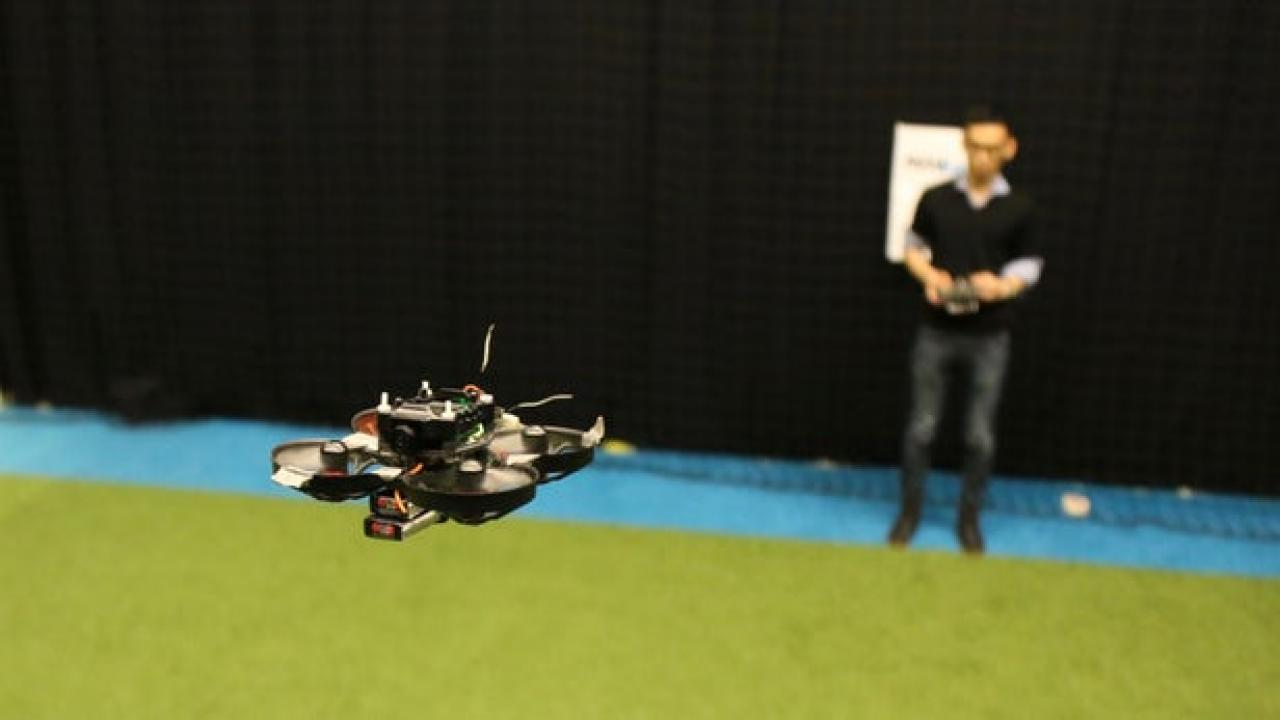Drone: (264, 315, 616, 547)
